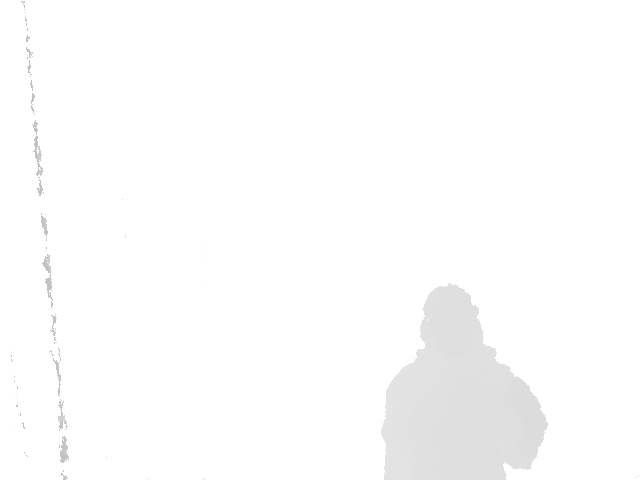head: (420, 284, 484, 356)
person: (380, 283, 549, 480)
